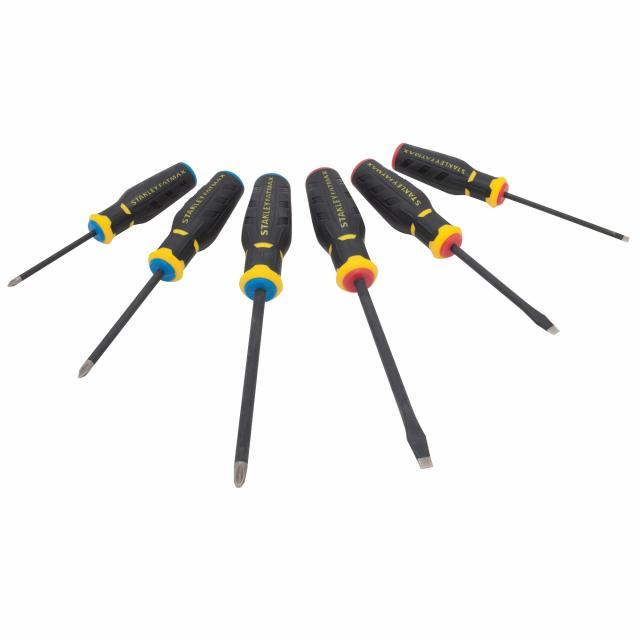screwdriver: (300, 163, 438, 473), (346, 152, 566, 341), (67, 166, 249, 394), (6, 154, 202, 288), (380, 141, 624, 248), (228, 169, 298, 498)
